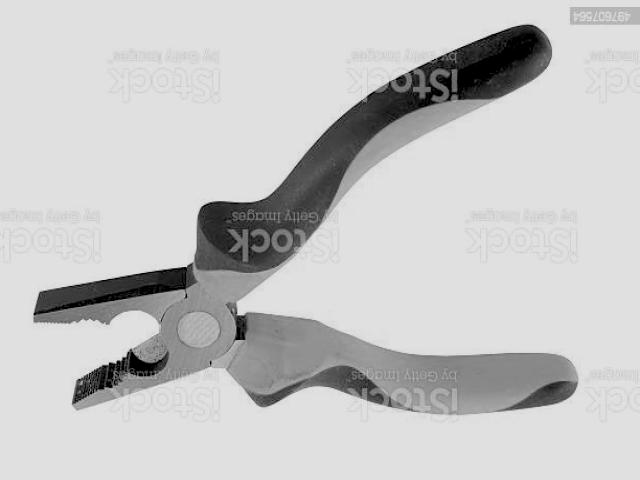Pliers: (36, 26, 578, 415)
